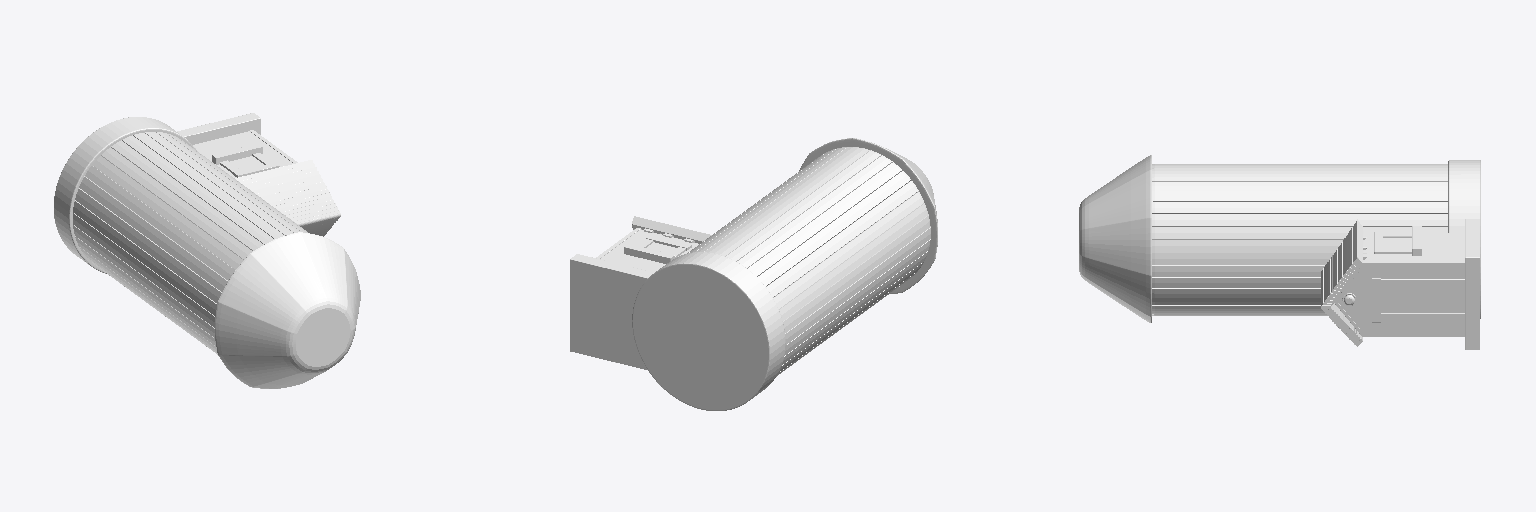
Rendered from 20954_Farm_Silo_v1_NEW.obj.
3 views of the same model, side by side, from view 1: azimuth 30°, elevation 25°; view 2: azimuth 150°, elevation 25°; view 3: azimuth 270°, elevation 25° (orthographic).
Visible parts, largest first — view 1: 20954_Farm_Silo; view 2: 20954_Farm_Silo; view 3: 20954_Farm_Silo.
Boxes of the visible parts, x1=… form: 20954_Farm_Silo: x1=54, y1=113, x2=360, y2=388; 20954_Farm_Silo: x1=570, y1=138, x2=937, y2=410; 20954_Farm_Silo: x1=1079, y1=155, x2=1480, y2=349.
Size of the model in its own units: 5.89 by 4.05 by 9.69.